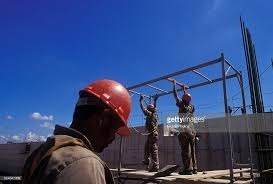helmet: (77, 77, 133, 138), (180, 92, 192, 104), (147, 103, 155, 110)
person with partial safety: (20, 76, 134, 183), (177, 93, 200, 176), (140, 102, 161, 173)
